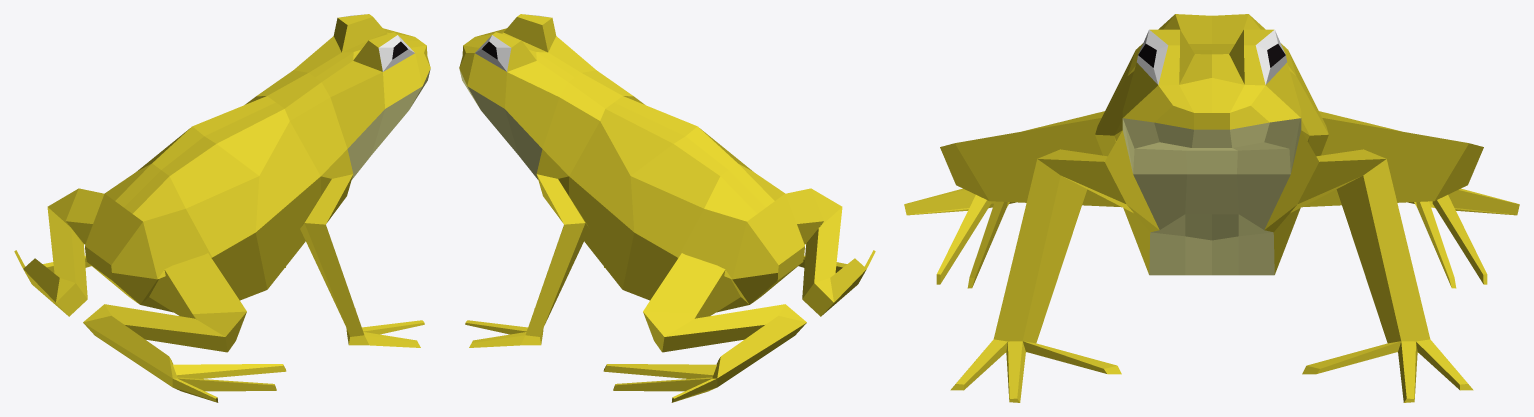
Rendered from frog mirrored shapekeys.fbx.
The picture shows the model from 3 angles, left to right: view 1: azimuth 30°, elevation 25°; view 2: azimuth 150°, elevation 25°; view 3: azimuth 270°, elevation 25°; orthographic projection. The views are drawn at different scales.
Parts seen in each view (by area): view 1: Plane; view 2: Plane; view 3: Plane.
Boxes of the visible parts, x1,y1,x2,y2 form: Plane: (14,14,430,402); Plane: (459,14,875,402); Plane: (904,14,1519,402).
Bounding box in the file's own units: 158 × 109 × 157.
